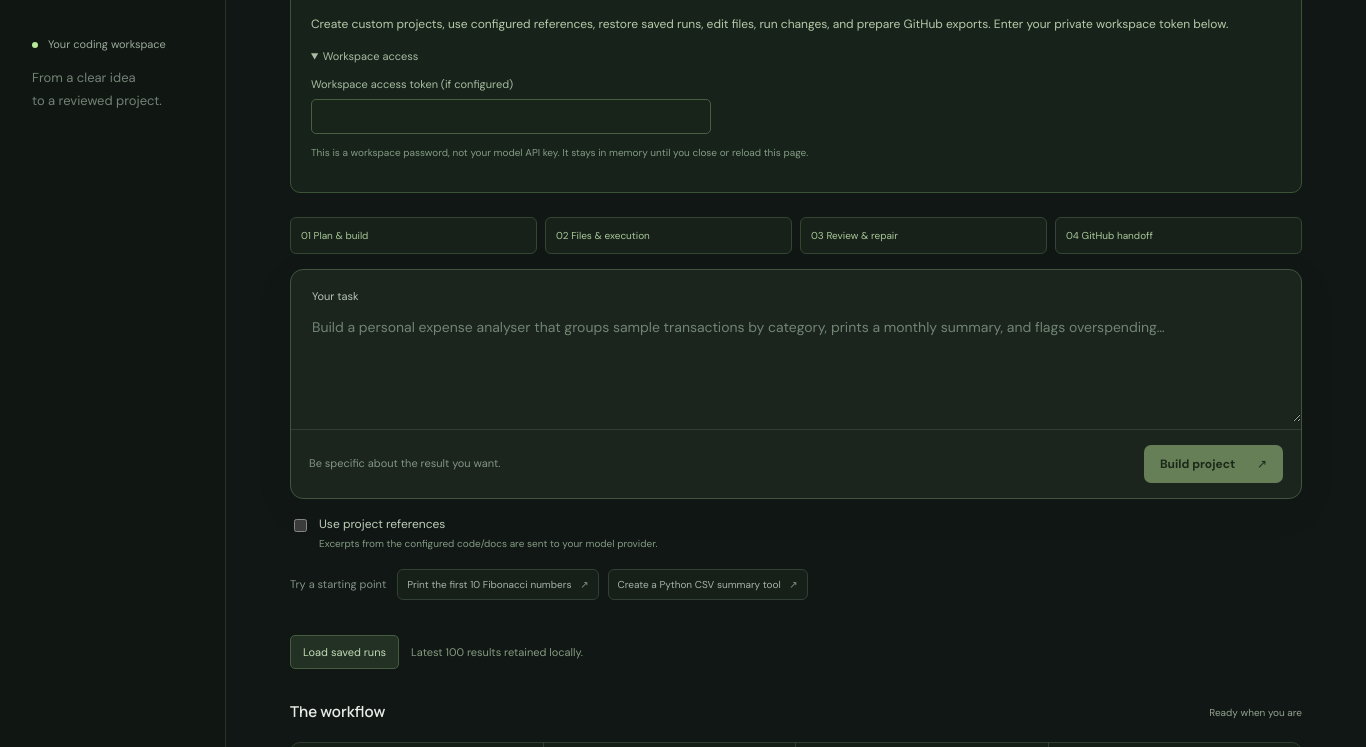
it: shows supplied citations and excerpts without claiming proven grounding
(page scrolled)
Type "Print hello" into the text box labelled "Your task" at [796, 364], box [291, 306, 1301, 422]
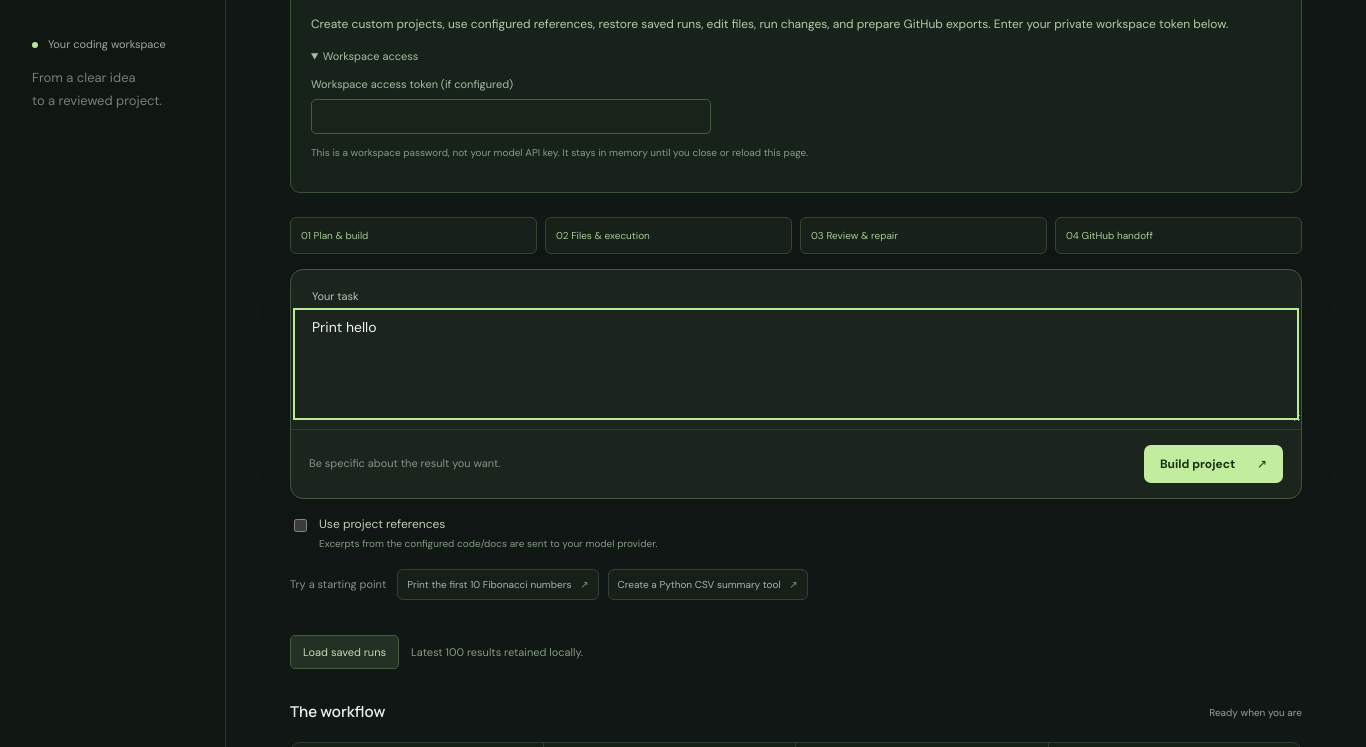
Click the button "Build project ↗" at [1214, 464], box [1144, 444, 1283, 482]
(page scrolled)
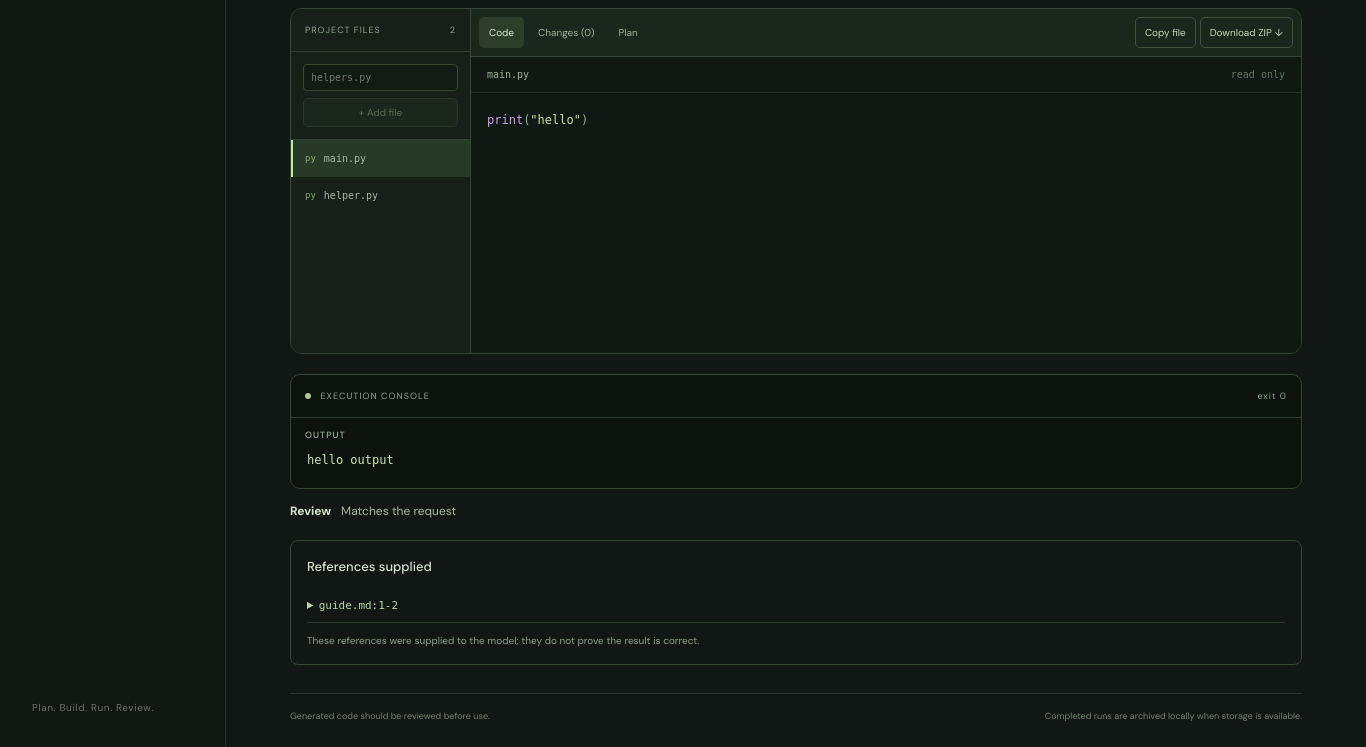
Check: the heading "guide.md:1-2" is shown, box [319, 599, 398, 612]
Check: the text "do not prove the result is correct" is shown, box [307, 634, 699, 647]
